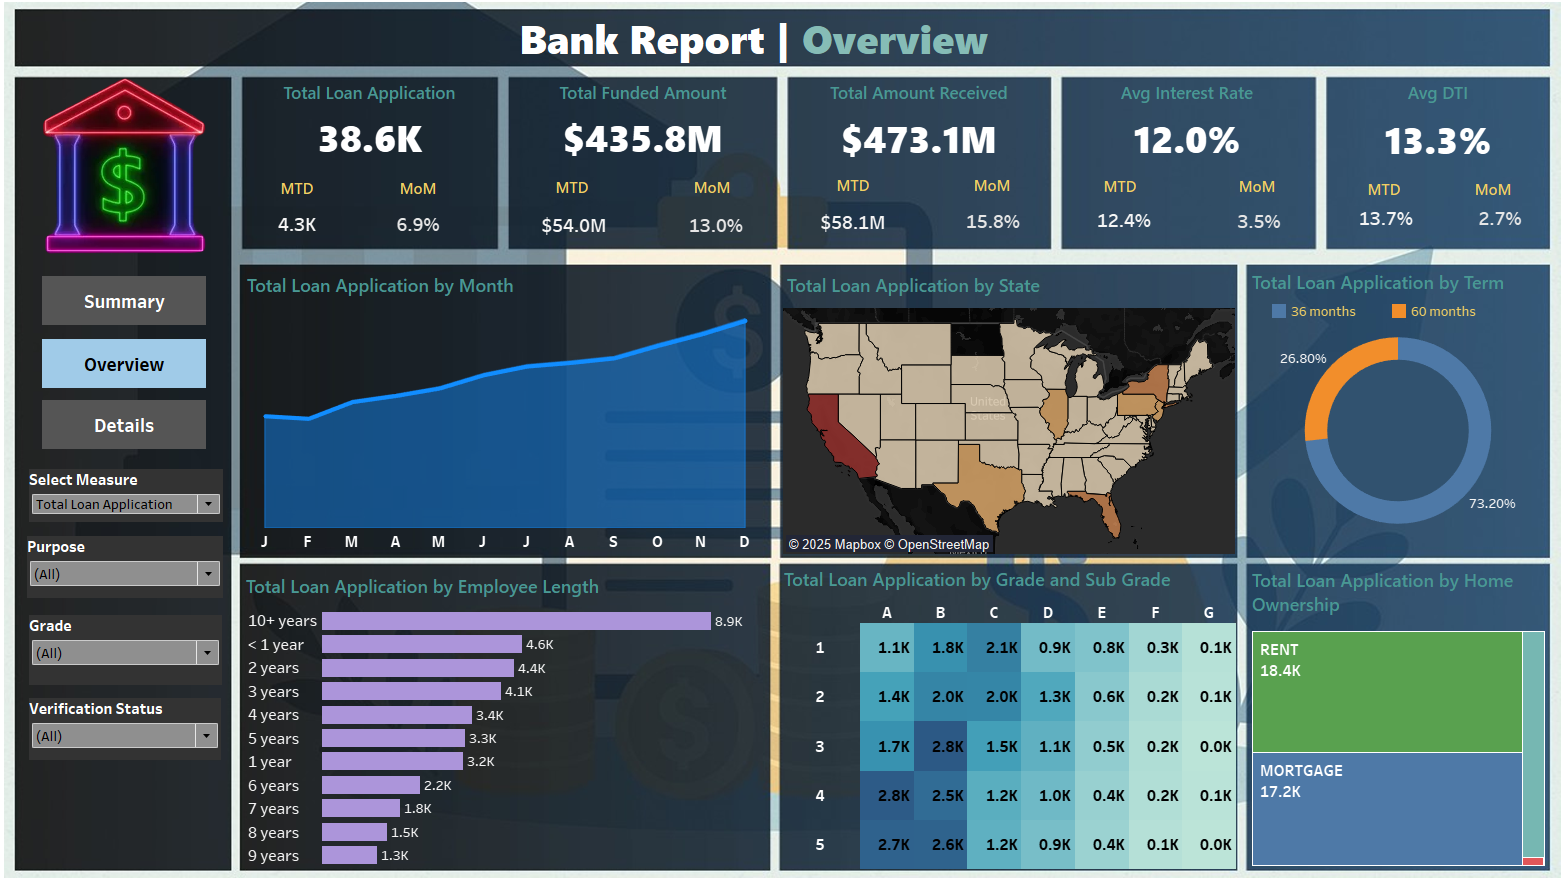

This screenshot's page, from the dashboard's own definition file:
{"tool":"tableau","page":{"name":"OVERVIEW","canvas":[1600,900],"ordinal":1},"visuals":[{"type":"image","param":"Image/My Background Layout 2.jpg","box":[8,8,1584,884]},{"type":"text","box":[533,23,488,50]},{"type":"worksheet","title":"Total Loan Application","mark":"Automatic","box":[259,87,255,82]},{"type":"worksheet","title":"Total Funded Amount","mark":"Automatic","box":[526,87,268,82]},{"type":"worksheet","title":"Total Amount Received","mark":"Automatic","box":[805,87,262,83]},{"type":"worksheet","title":"Avg Interest Rate","mark":"Automatic","box":[1079,87,250,84]},{"type":"worksheet","title":"Avg DTI","mark":"Automatic","box":[1344,87,222,85]},{"type":"image","param":"Image/Adobe Express - file.png","box":[39,88,202,193]},{"type":"text","box":[820,180,100,30]},{"type":"text","box":[959,180,100,30]},{"type":"text","box":[1087,181,100,30]},{"type":"text","box":[1224,181,100,30]},{"type":"text","box":[539,182,100,30]},{"type":"text","box":[679,182,100,30]},{"type":"text","box":[264,183,100,30]},{"type":"text","box":[385,183,100,30]},{"type":"text","box":[1351,184,100,30]},{"type":"text","box":[1460,184,100,30]},{"type":"worksheet","title":"MTD Avg DTI","mark":"Automatic","box":[1369,203,67,49]},{"type":"worksheet","title":"MTD Avg Interest Rate","mark":"Automatic","box":[1105,205,72,49]},{"type":"worksheet","title":"MoM Avg DTI","mark":"Automatic","box":[1486,205,63,46]},{"type":"worksheet","title":"MoM Total Amount Received","mark":"Automatic","box":[970,207,79,48]},{"type":"worksheet","title":"MTD Total Amount Received","mark":"Automatic","box":[831,208,78,47]},{"type":"worksheet","title":"MoM Avg Interest Rate","mark":"Automatic","box":[1237,209,77,43]},{"type":"worksheet","title":"MTD Total Loan Application","mark":"Automatic","box":[280,211,67,46]},{"type":"worksheet","title":"MTD Total Funded Amount","mark":"Automatic","box":[554,212,73,45]},{"type":"worksheet","title":"MoM Loan Application","mark":"Automatic","box":[406,213,57,42]},{"type":"worksheet","title":"MoM Total Funded Amount","mark":"Automatic","box":[699,213,68,44]},{"type":"worksheet","title":"Term","mark":"Pie","rows":["Calculation_1628614280417980429","Calculation_1628614280417980429"],"box":[1265,276,300,290]},{"type":"worksheet","title":"Month","mark":"Area","rows":["Calculation_1628614280383541259","Calculation_1628614280383541259"],"cols":["issue_date"],"box":[260,279,524,284]},{"type":"worksheet","title":"State","mark":"Multipolygon","box":[800,279,452,285]},{"type":"dashboard-object","box":[59,286,164,49]},{"type":"legend","title":"Term","param":"[federated.0udsdu11p73yy70zzkvhk0izcd7r].[none:term:nk]","box":[1286,311,254,30]},{"type":"dashboard-object","box":[59,349,164,49]},{"type":"dashboard-object","box":[59,410,164,49]},{"type":"parameter","param":"[Parameters].[Parameter 1]","box":[46,479,194,53]},{"type":"filter","title":"Avg DTI","param":"[federated.0udsdu11p73yy70zzkvhk0izcd7r].[none:purpose:nk]","box":[44,546,196,62]},{"type":"worksheet","title":"Grade","mark":"Square","rows":["Calculation_317503839579348992"],"cols":["grade"],"box":[797,573,456,306]},{"type":"worksheet","title":"Home Own","mark":"Automatic","box":[1265,574,300,305]},{"type":"worksheet","title":"Emp Length","mark":"Automatic","rows":["emp_length"],"cols":["Calculation_1628614280383541259"],"box":[259,580,524,297]},{"type":"filter","title":"Avg DTI","param":"[federated.0udsdu11p73yy70zzkvhk0izcd7r].[none:grade:nk]","box":[46,625,193,70]},{"type":"filter","title":"Avg DTI","param":"[federated.0udsdu11p73yy70zzkvhk0izcd7r].[none:verification_status:nk]","box":[46,708,192,62]}]}

Visuals, with their boxes in screenshot pixels (x1, y1, x2, y2), scaled from the page's 1600x900 canvas onto the 1561x879 screenshot:
image: region(8, 8, 1553, 871)
text: region(520, 22, 996, 71)
"Total Loan Application" worksheet: region(253, 85, 501, 165)
"Total Funded Amount" worksheet: region(513, 85, 775, 165)
"Total Amount Received" worksheet: region(785, 85, 1041, 166)
"Avg Interest Rate" worksheet: region(1053, 85, 1297, 167)
"Avg DTI" worksheet: region(1311, 85, 1528, 168)
image: region(38, 86, 235, 274)
text: region(800, 176, 898, 205)
text: region(936, 176, 1033, 205)
text: region(1061, 177, 1158, 206)
text: region(1194, 177, 1292, 206)
text: region(526, 178, 623, 207)
text: region(662, 178, 760, 207)
text: region(258, 179, 355, 208)
text: region(376, 179, 473, 208)
text: region(1318, 180, 1416, 209)
text: region(1424, 180, 1522, 209)
"MTD Avg DTI" worksheet: region(1336, 198, 1401, 246)
"MTD Avg Interest Rate" worksheet: region(1078, 200, 1148, 248)
"MoM Avg DTI" worksheet: region(1450, 200, 1511, 245)
"MoM Total Amount Received" worksheet: region(946, 202, 1023, 249)
"MTD Total Amount Received" worksheet: region(811, 203, 887, 249)
"MoM Avg Interest Rate" worksheet: region(1207, 204, 1282, 246)
"MTD Total Loan Application" worksheet: region(273, 206, 339, 251)
"MTD Total Funded Amount" worksheet: region(540, 207, 612, 251)
"MoM Loan Application" worksheet: region(396, 208, 452, 249)
"MoM Total Funded Amount" worksheet: region(682, 208, 748, 251)
"Term" worksheet (Pie marks): region(1234, 270, 1527, 553)
"Month" worksheet (Area marks): region(254, 272, 765, 550)
"State" worksheet (Multipolygon marks): region(780, 272, 1221, 551)
dashboard-object: region(58, 279, 218, 327)
"Term" legend: region(1255, 304, 1502, 333)
dashboard-object: region(58, 341, 218, 389)
dashboard-object: region(58, 400, 218, 448)
parameter: region(45, 468, 234, 520)
"Avg DTI" filter: region(43, 533, 234, 594)
"Grade" worksheet (Square marks): region(778, 560, 1222, 858)
"Home Own" worksheet: region(1234, 561, 1527, 858)
"Emp Length" worksheet: region(253, 566, 764, 857)
"Avg DTI" filter: region(45, 610, 233, 679)
"Avg DTI" filter: region(45, 691, 232, 752)
